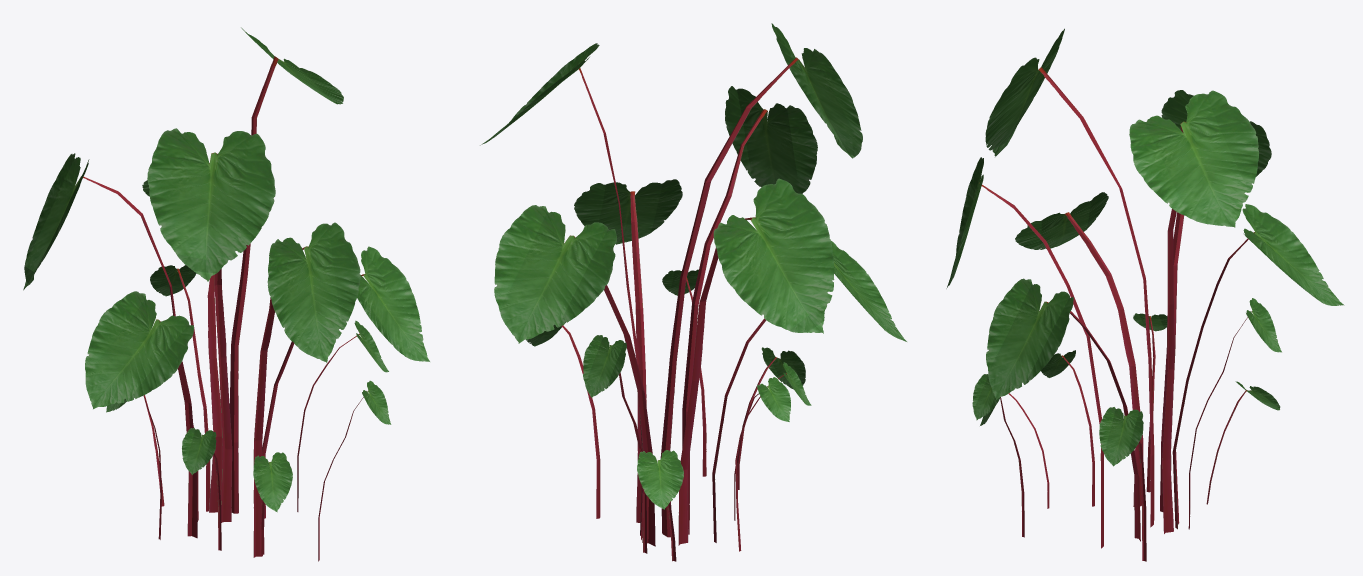
File: Colocasia2.fbx
3 renders of one model, left to right at view 1: azimuth 30°, elevation 25°; view 2: azimuth 150°, elevation 25°; view 3: azimuth 270°, elevation 25°, orthographic. The views are drawn at different scales.
Parts seen in each view (by area): view 1: Colocasia.031; view 2: Colocasia.031; view 3: Colocasia.031.
Part boxes in pixels (x1=…): Colocasia.031: x1=23, y1=27, x2=429, y2=561; Colocasia.031: x1=480, y1=23, x2=906, y2=561; Colocasia.031: x1=946, y1=28, x2=1344, y2=561.
Size of the model in its own units: 215 by 289 by 220.
